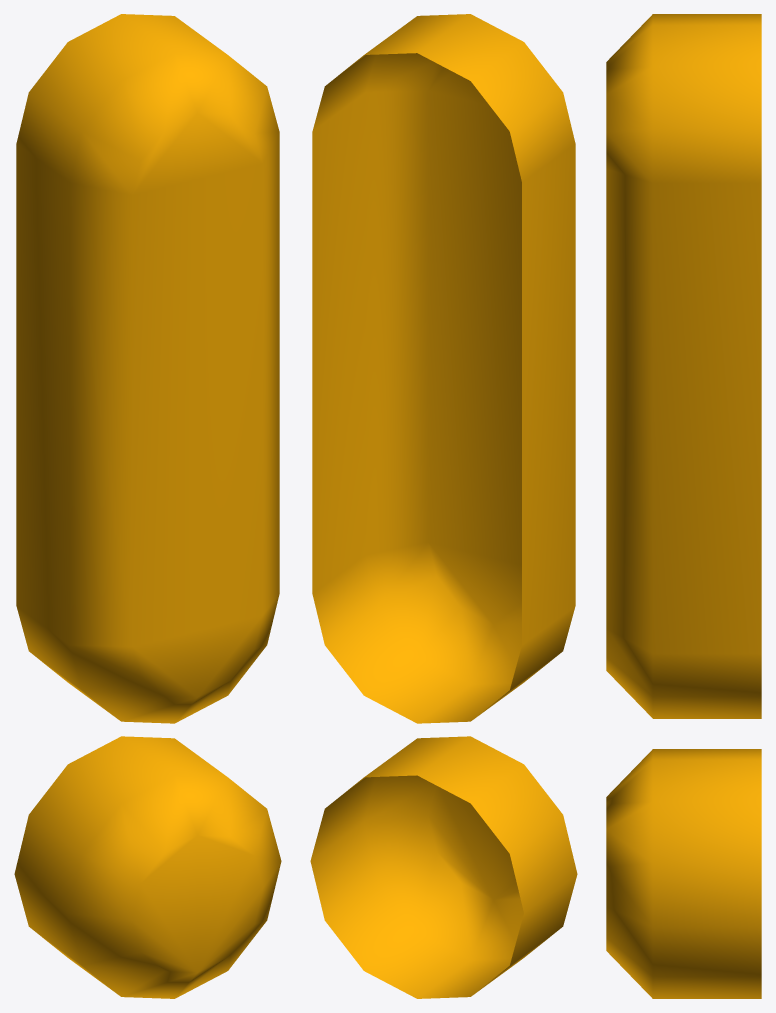
File: Drone_002_Face_Exclamation_001.fbx
3 renders of one model, left to right at view 1: azimuth 30°, elevation 25°; view 2: azimuth 150°, elevation 25°; view 3: azimuth 270°, elevation 25°, orthographic.
Visible parts, largest first — view 1: Drone_002_Face_Exclamation_001; view 2: Drone_002_Face_Exclamation_001; view 3: Drone_002_Face_Exclamation_001.
Boxes of the visible parts, x1,y1,x2,y2 form: Drone_002_Face_Exclamation_001: (14,14,281,998); Drone_002_Face_Exclamation_001: (310,14,577,998); Drone_002_Face_Exclamation_001: (606,14,761,998).
Size of the model in its own units: 1.86 by 1.16 by 7.89.
